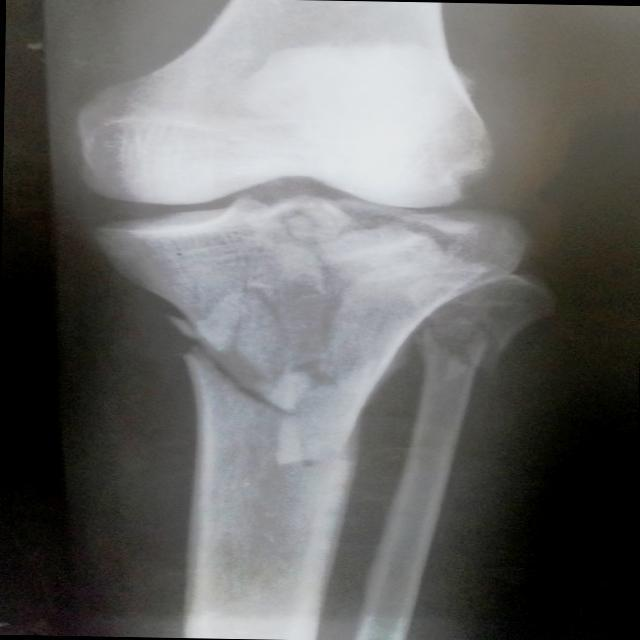Comminuted Fracture: (159, 314, 297, 424)
